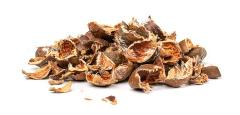organic: (122, 37, 162, 61), (130, 64, 166, 88)
